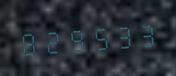eight: (17, 24, 39, 59)
five: (87, 20, 109, 54)
nine: (64, 21, 86, 56)
three: (133, 16, 155, 51), (110, 18, 132, 52)
two: (40, 23, 62, 57)
